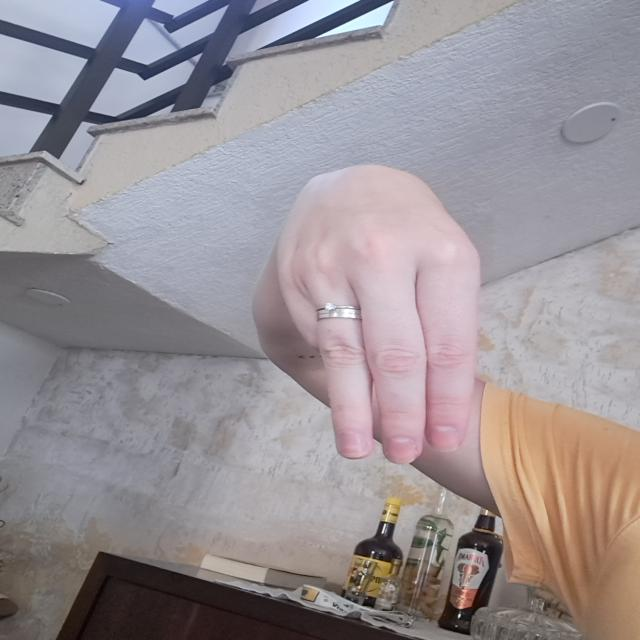M: (274, 157, 500, 484)
